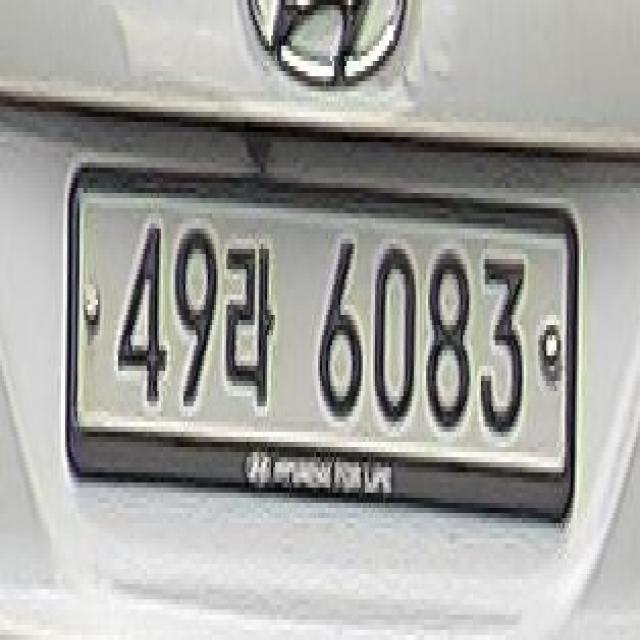0: (370, 214, 419, 443)
3: (476, 251, 532, 449)
4: (116, 210, 172, 413)
6: (316, 225, 366, 434)
8: (422, 235, 476, 440)
9: (175, 212, 222, 418)
la: (223, 226, 277, 432)
license_plate: (54, 151, 586, 558)
